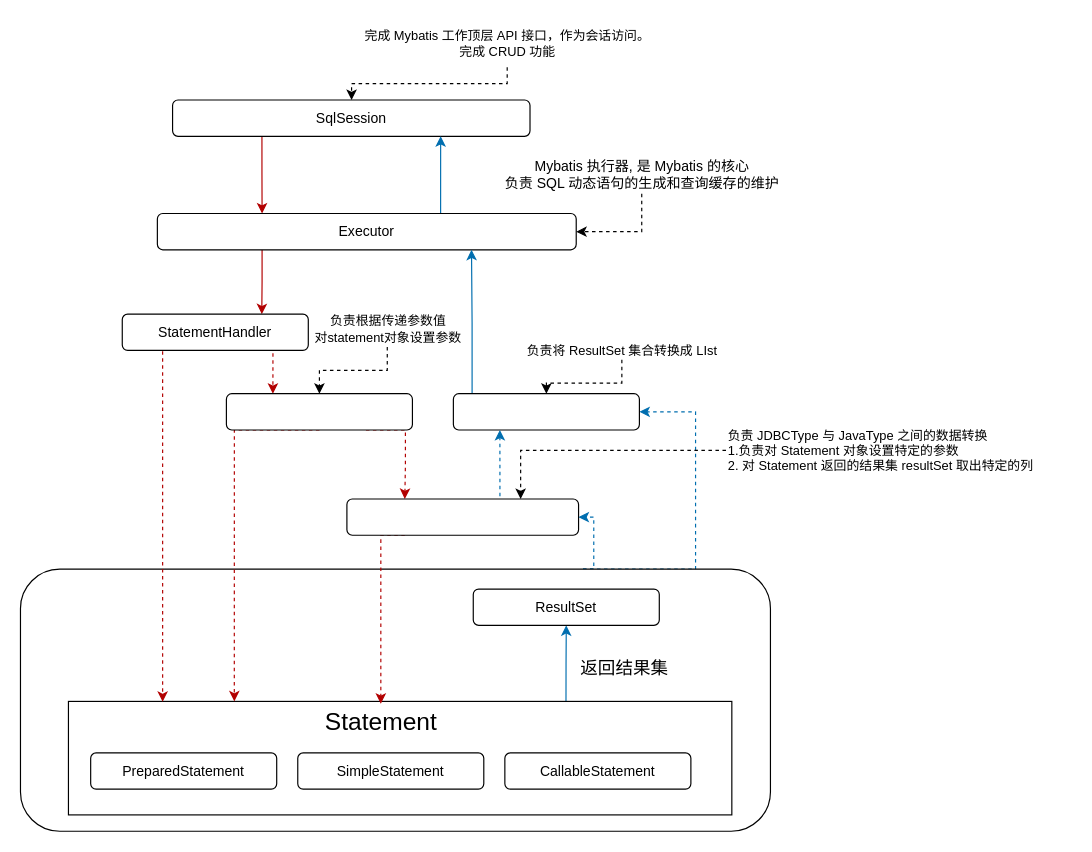
Some shapes in this 1092 by 852 pixel diagram are drawn without their labels. Each missing label, with the centre of its shape:
"ParameterHandler" goes at point (318, 411).
"ResultSetHandler" goes at point (545, 411).
"TypeHandler<T>" goes at point (462, 516).
